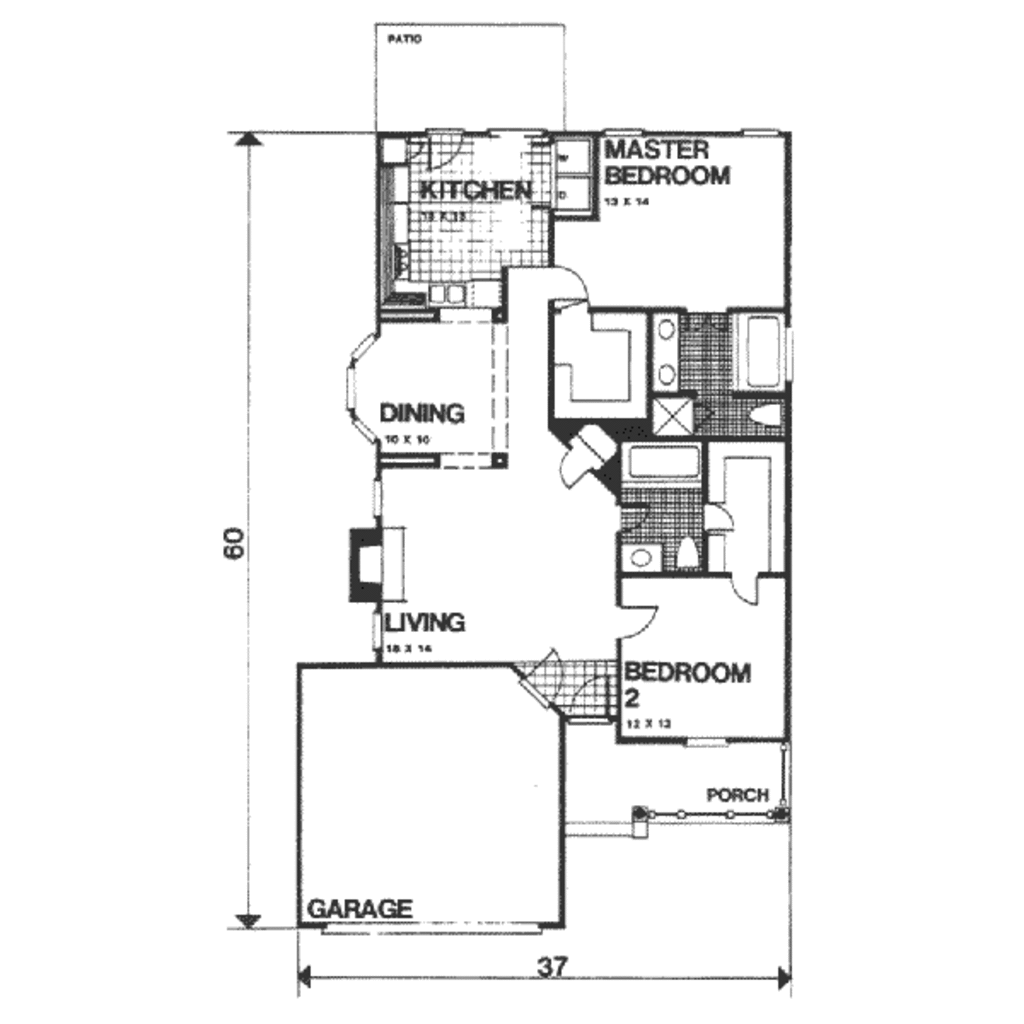door: (561, 665, 609, 734), (520, 646, 569, 708), (550, 436, 599, 496), (691, 489, 748, 537), (545, 257, 593, 307), (618, 600, 666, 643), (734, 568, 771, 607)
large_sink: (747, 397, 785, 430)
small_sink: (648, 307, 693, 402)
tub: (731, 307, 799, 391), (609, 437, 705, 483)
twin_sink: (420, 275, 491, 313)
window: (339, 324, 390, 446), (680, 729, 732, 756)
